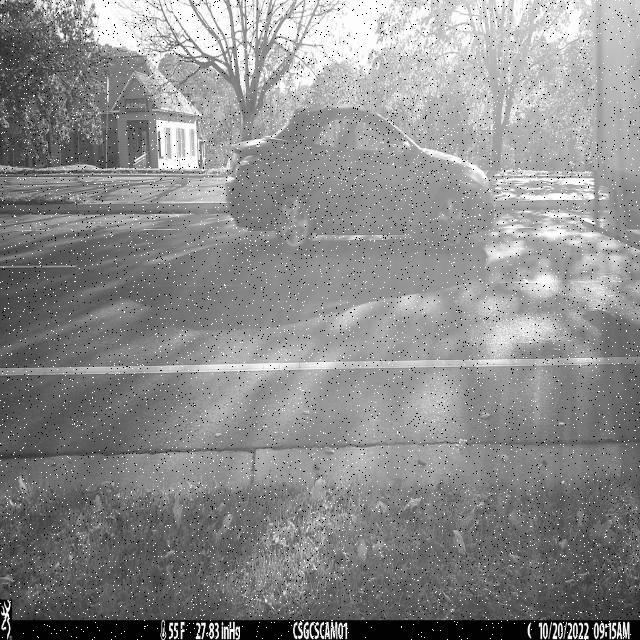Sedan: (226, 107, 495, 250)
